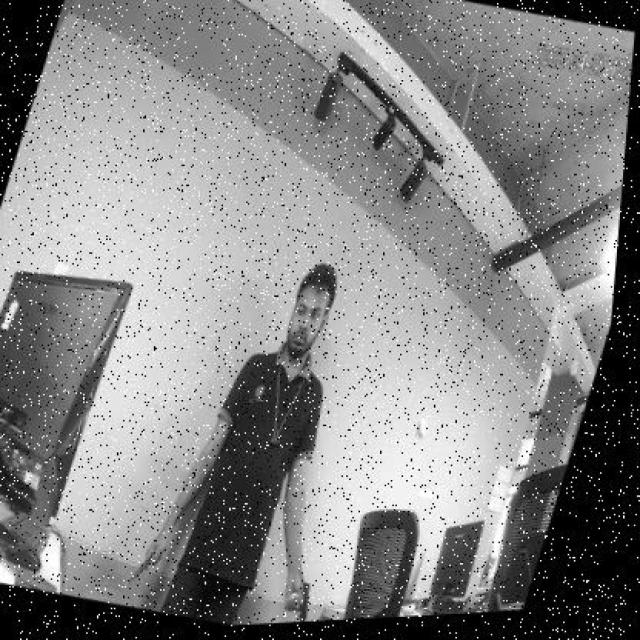weapon: (283, 578, 314, 624)
